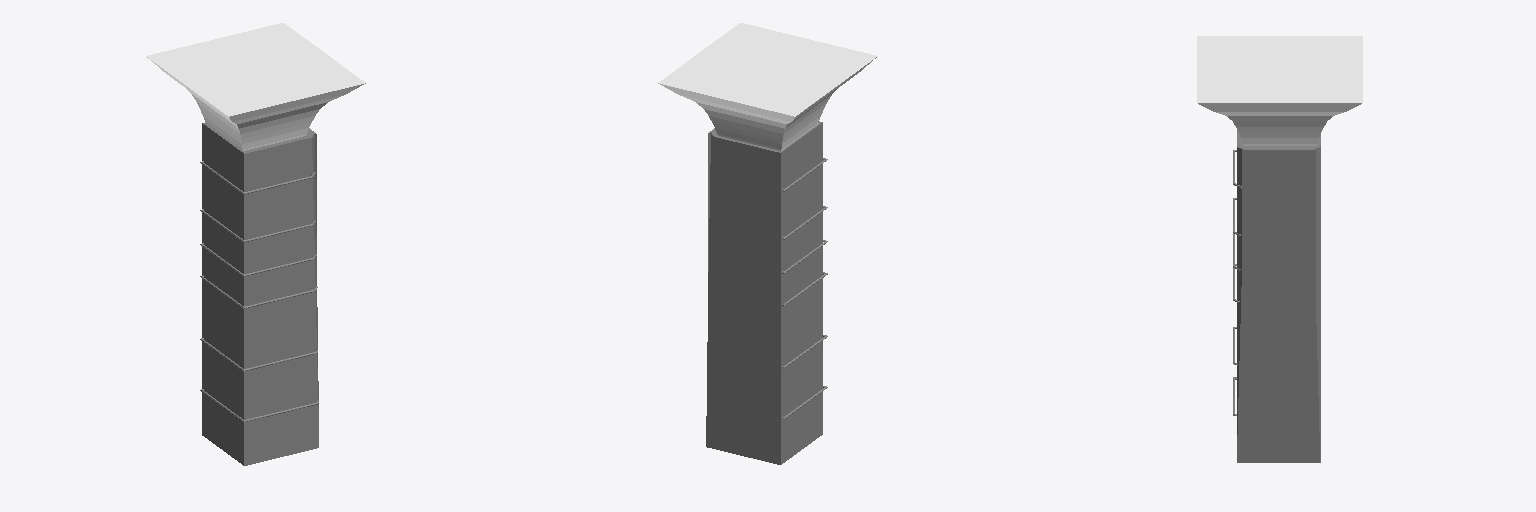
The model's file is lampara3.obj.
3 renders of one model, left to right at view 1: azimuth 30°, elevation 25°; view 2: azimuth 150°, elevation 25°; view 3: azimuth 270°, elevation 25°, orthographic.
Visible parts, largest first — view 1: Box022, Object002; view 2: Box022, Object002; view 3: Box022, Object002.
Part boxes in pixels (x1,y1,x2,y2): Box022: (202,123,318,465); Object002: (146,23,365,150); Box022: (706,121,822,464); Object002: (658,23,877,150); Box022: (1237,130,1320,462); Object002: (1197,36,1362,145).
Size of the model in its own units: 5.81 by 15.03 by 6.07.